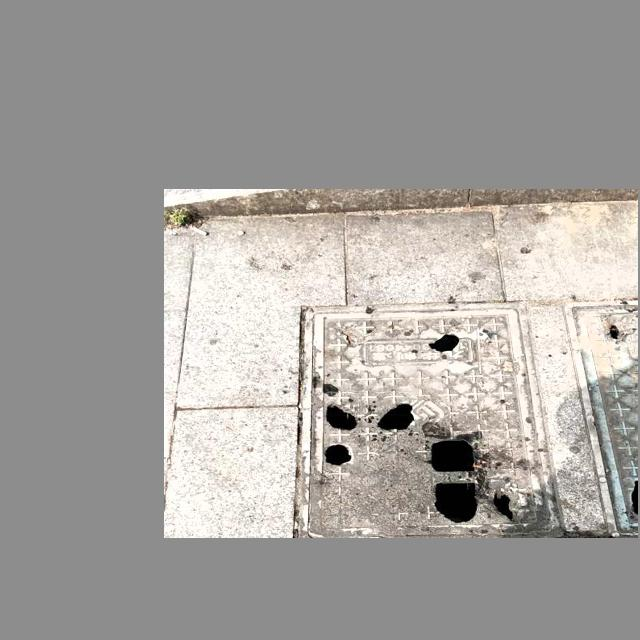broke: (297, 309, 555, 538)
